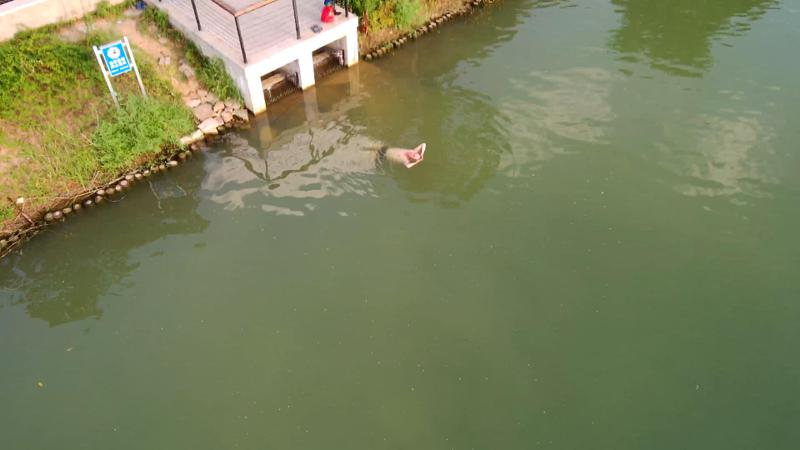swimmers: (358, 142, 427, 169)
